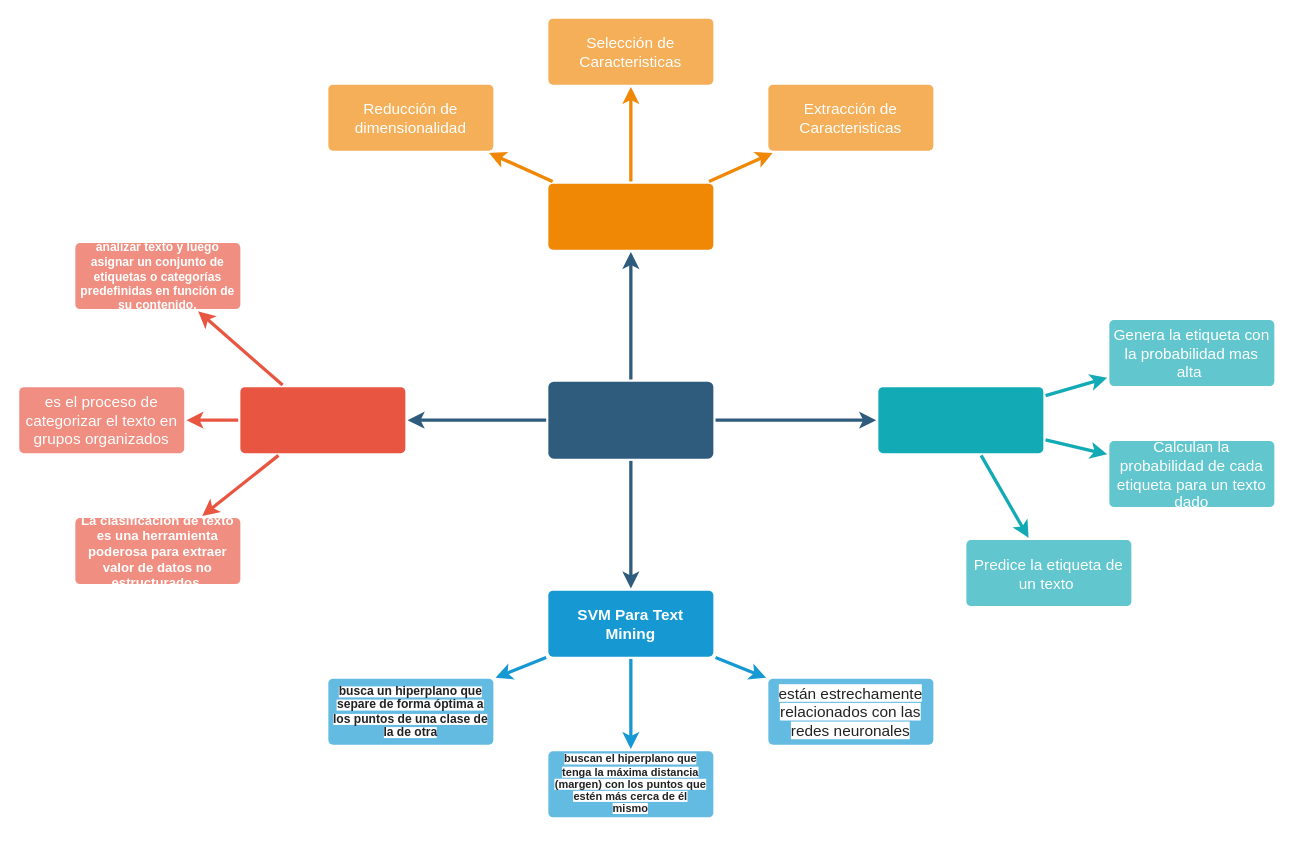
The diagram is 1293 pixels wide and 858 high, and some of its shapes have lost their labels. Each missing label, with the centre of its shape:
"Análisis de Sentimiento" belongs at point 630,419.
"Clasificación de Texto" belongs at point 322,420.
"Identificando Características del Texto" belongs at point 630,216.
"Naive Bayes Clasifiers" belongs at point 960,420.
